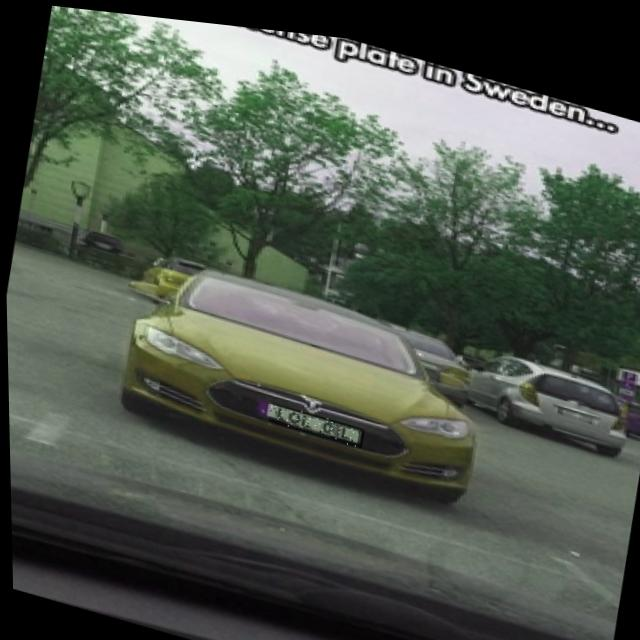license_plate: (266, 396, 363, 440)
